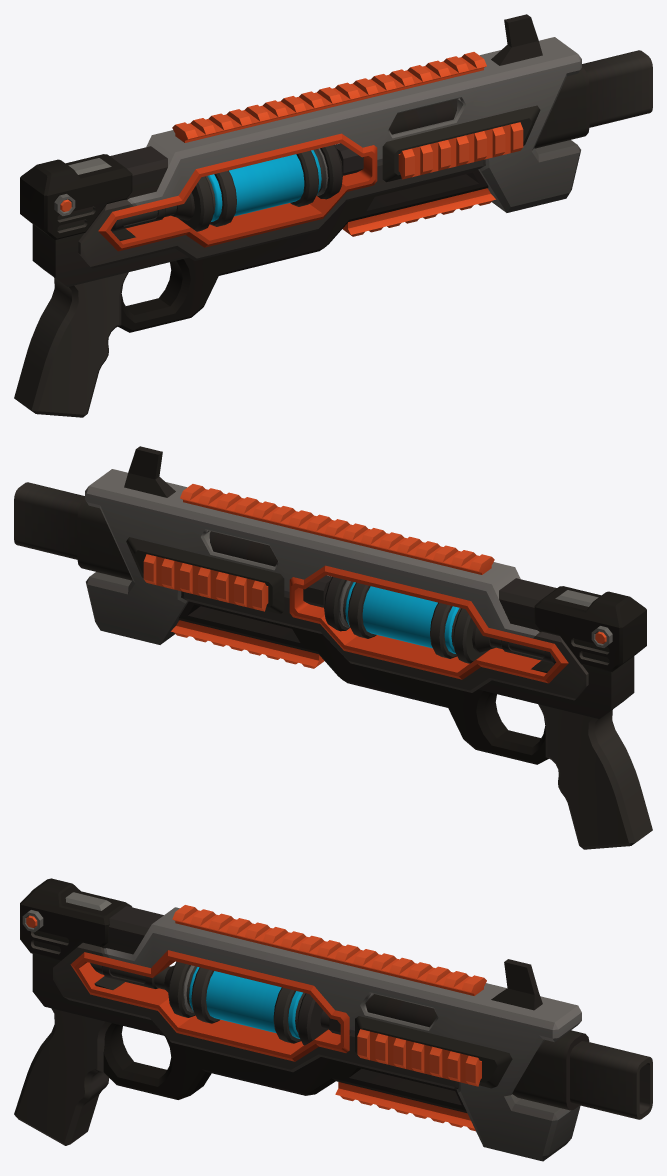
3 views of the same model, one above another, from view 1: azimuth 30°, elevation 25°; view 2: azimuth 150°, elevation 25°; view 3: azimuth 330°, elevation 25° (orthographic).
Visible parts, largest first — view 1: AR5_Base; view 2: AR5_Base; view 3: AR5_Base.
Boxes of the visible parts, <box> form: AR5_Base: <box>14,14,652,417</box>; AR5_Base: <box>14,446,652,849</box>; AR5_Base: <box>14,878,652,1161</box>.
Size of the model in its own units: 58.8 by 25.7 by 7.81.
